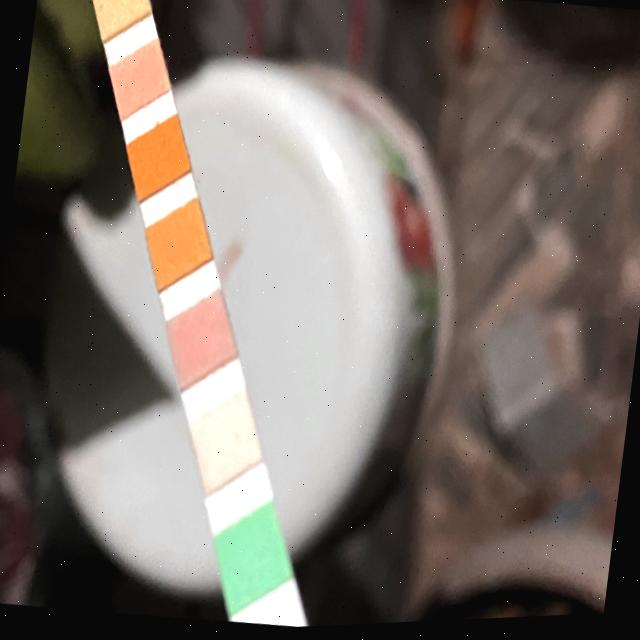Bilirubin: (200, 408, 251, 474)
Blood: (134, 130, 180, 183)
Glucose: (224, 519, 280, 591)
Ketone: (177, 308, 226, 367)
Protein: (98, 0, 139, 21)
SpGravity: (154, 214, 202, 269)
pH: (117, 52, 158, 103)
